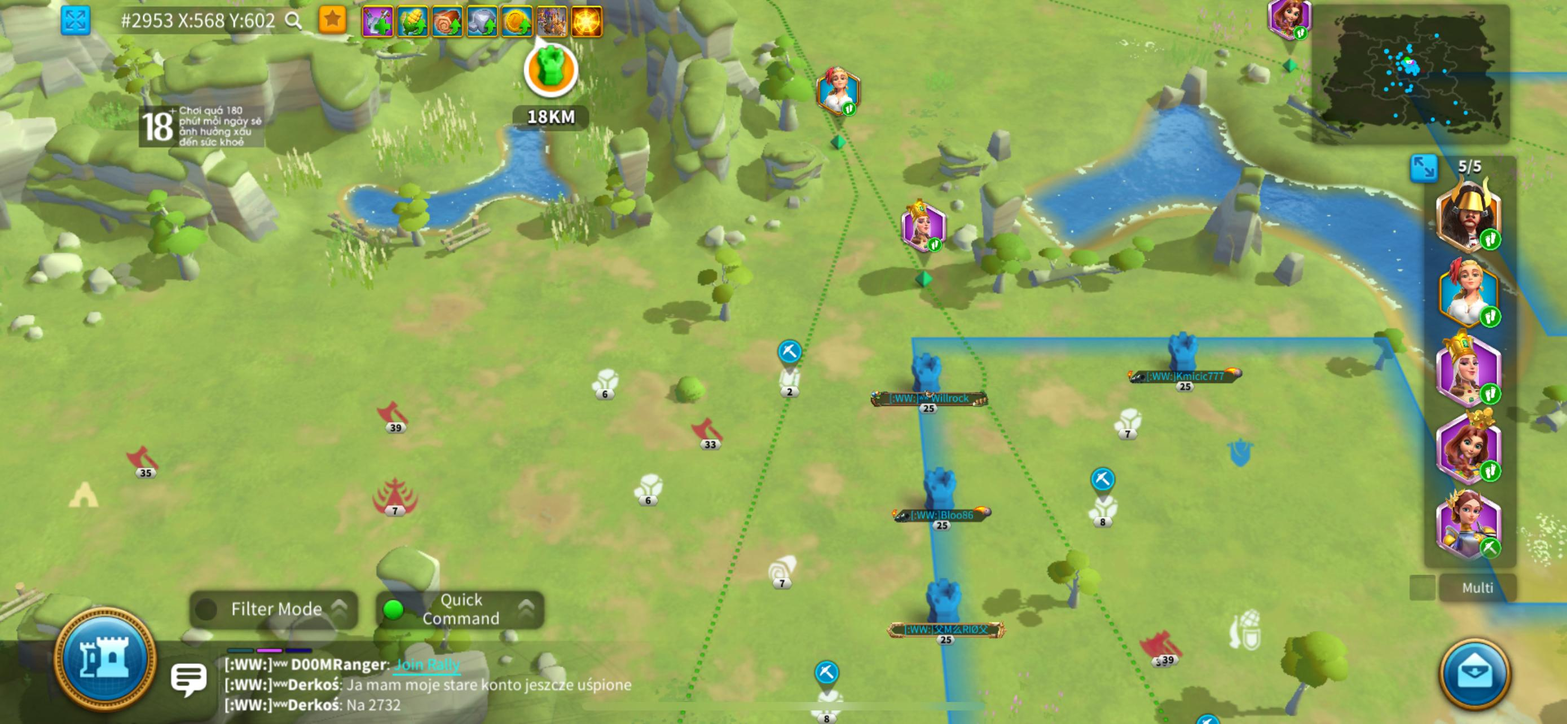march_farming: (1479, 536, 1503, 561)
march_marching: (1479, 304, 1503, 329), (1479, 459, 1503, 484), (1479, 382, 1503, 406), (1479, 228, 1502, 252)
